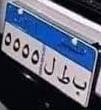5: (30, 48, 40, 66), (20, 44, 30, 60), (12, 36, 21, 53), (3, 33, 12, 47)
Taa: (57, 63, 70, 86)
baa: (71, 76, 88, 97)
laam: (43, 56, 56, 77)
